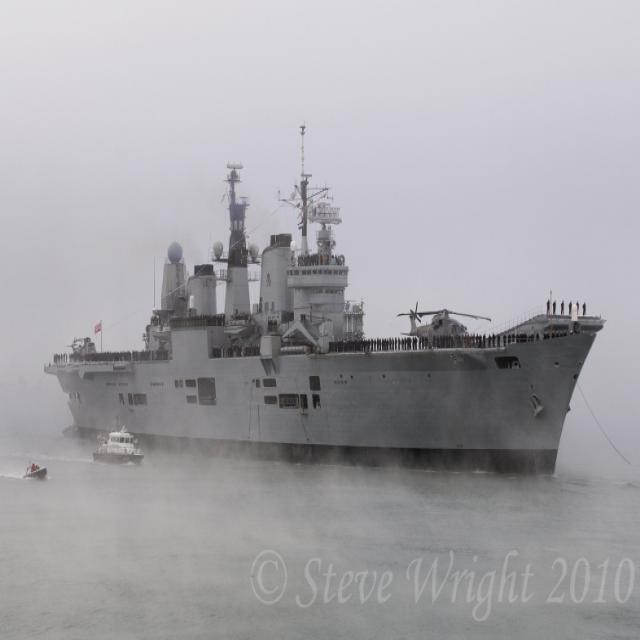Portanaves: (38, 112, 606, 488)
